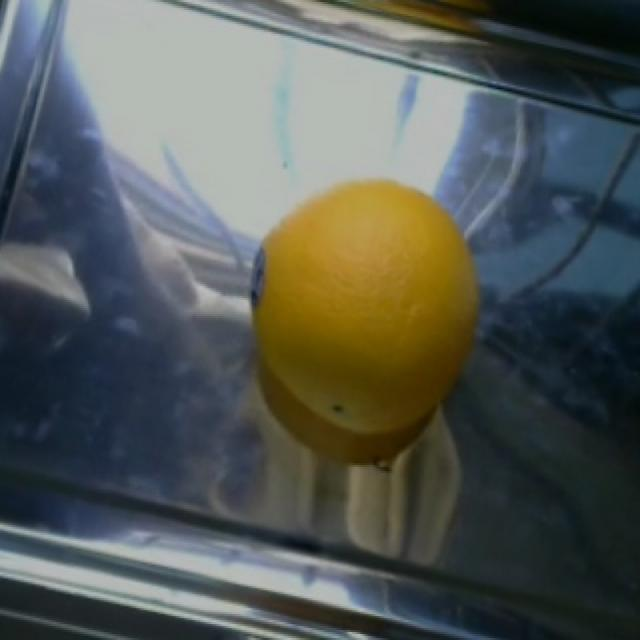Fruit: (232, 155, 496, 509)
